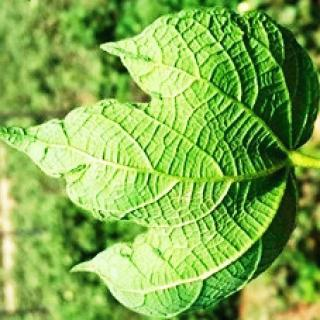curl: (15, 10, 312, 312)
